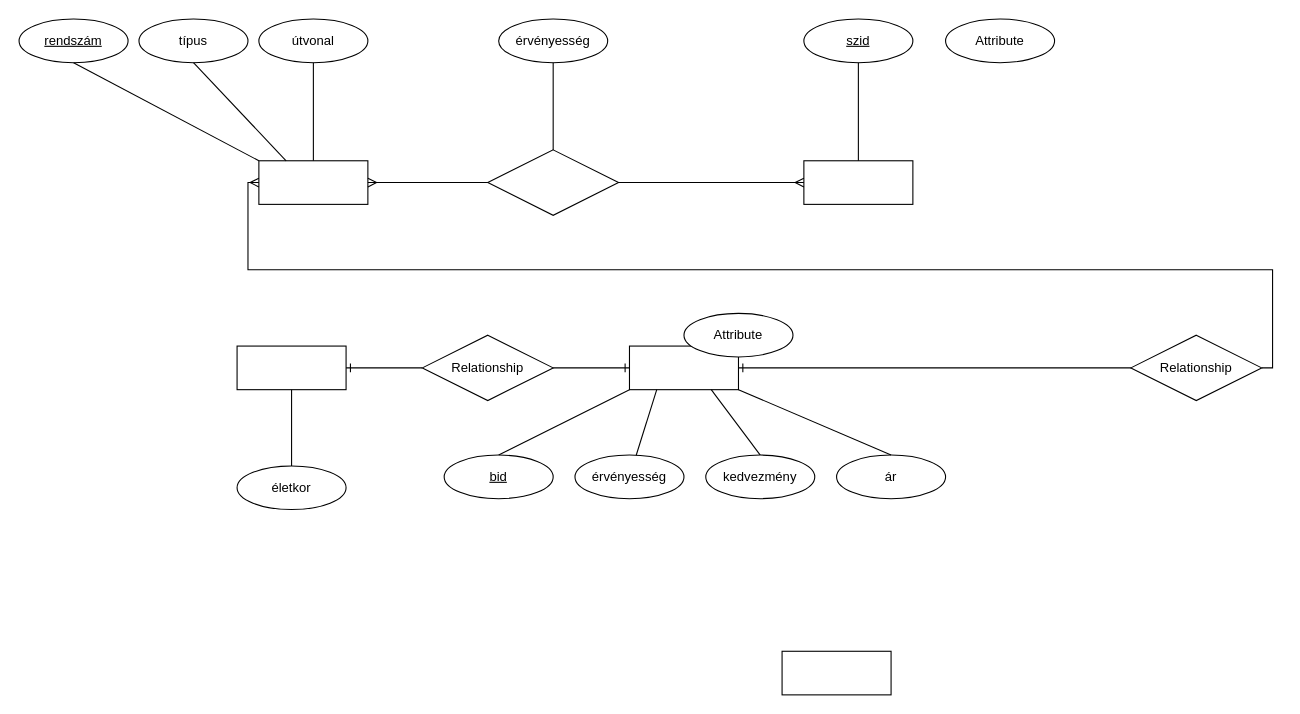
Image size: 1300x714. Some labels were removed from this diagram. Each missing label, with the box of its shape:
Bérlet: (628, 345, 738, 390)
Entity: (781, 650, 891, 695)
Jogosítvány: (487, 149, 619, 215)
Járművek: (258, 160, 368, 204)
Sofőr: (803, 160, 913, 204)
Utas: (236, 345, 346, 390)
